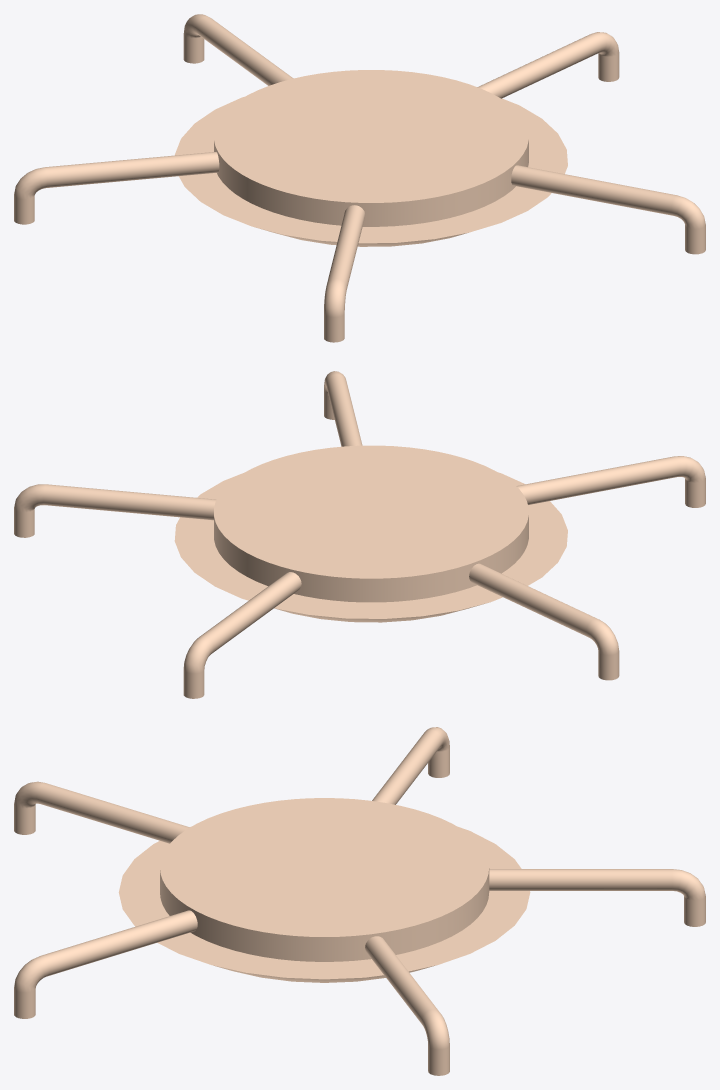
File: SPBA-FISHBASE-P5-Gold.glb
3 views of the same model, one above another, from view 1: azimuth 30°, elevation 25°; view 2: azimuth 150°, elevation 25°; view 3: azimuth 270°, elevation 25° (orthographic). The views are drawn at different scales.
Parts seen in each view (by area): view 1: Mesh_5, Mesh_6, Mesh_0.002, Mesh_2, Mesh_3, Mesh_4, Mesh_1.002; view 2: Mesh_5, Mesh_6, Mesh_3, Mesh_1.002, Mesh_0.002, Mesh_4, Mesh_2; view 3: Mesh_5, Mesh_6, Mesh_4, Mesh_2, Mesh_1.002, Mesh_3, Mesh_0.002.
Boxes of the visible parts, x1,y1,x2,y2 form: Mesh_5: [214, 70, 528, 226]; Mesh_6: [174, 96, 567, 246]; Mesh_0.002: [14, 152, 219, 224]; Mesh_2: [511, 165, 705, 254]; Mesh_3: [477, 32, 619, 98]; Mesh_4: [183, 14, 293, 85]; Mesh_1.002: [324, 205, 365, 342]; Mesh_5: [214, 445, 528, 602]; Mesh_6: [174, 472, 567, 622]; Mesh_3: [14, 484, 216, 537]; Mesh_1.002: [516, 456, 705, 507]; Mesh_0.002: [469, 563, 619, 680]; Mesh_4: [183, 572, 301, 698]; Mesh_2: [324, 371, 362, 446]; Mesh_5: [160, 798, 489, 961]; Mesh_6: [118, 826, 530, 982]; Mesh_4: [489, 869, 705, 926]; Mesh_2: [14, 910, 197, 1018]; Mesh_1.002: [14, 781, 189, 843]; Mesh_3: [365, 936, 449, 1075]; Mesh_0.002: [372, 727, 449, 804].
Bounding box in the file's own units: 0.3064 × 0.0376 × 0.2918.
